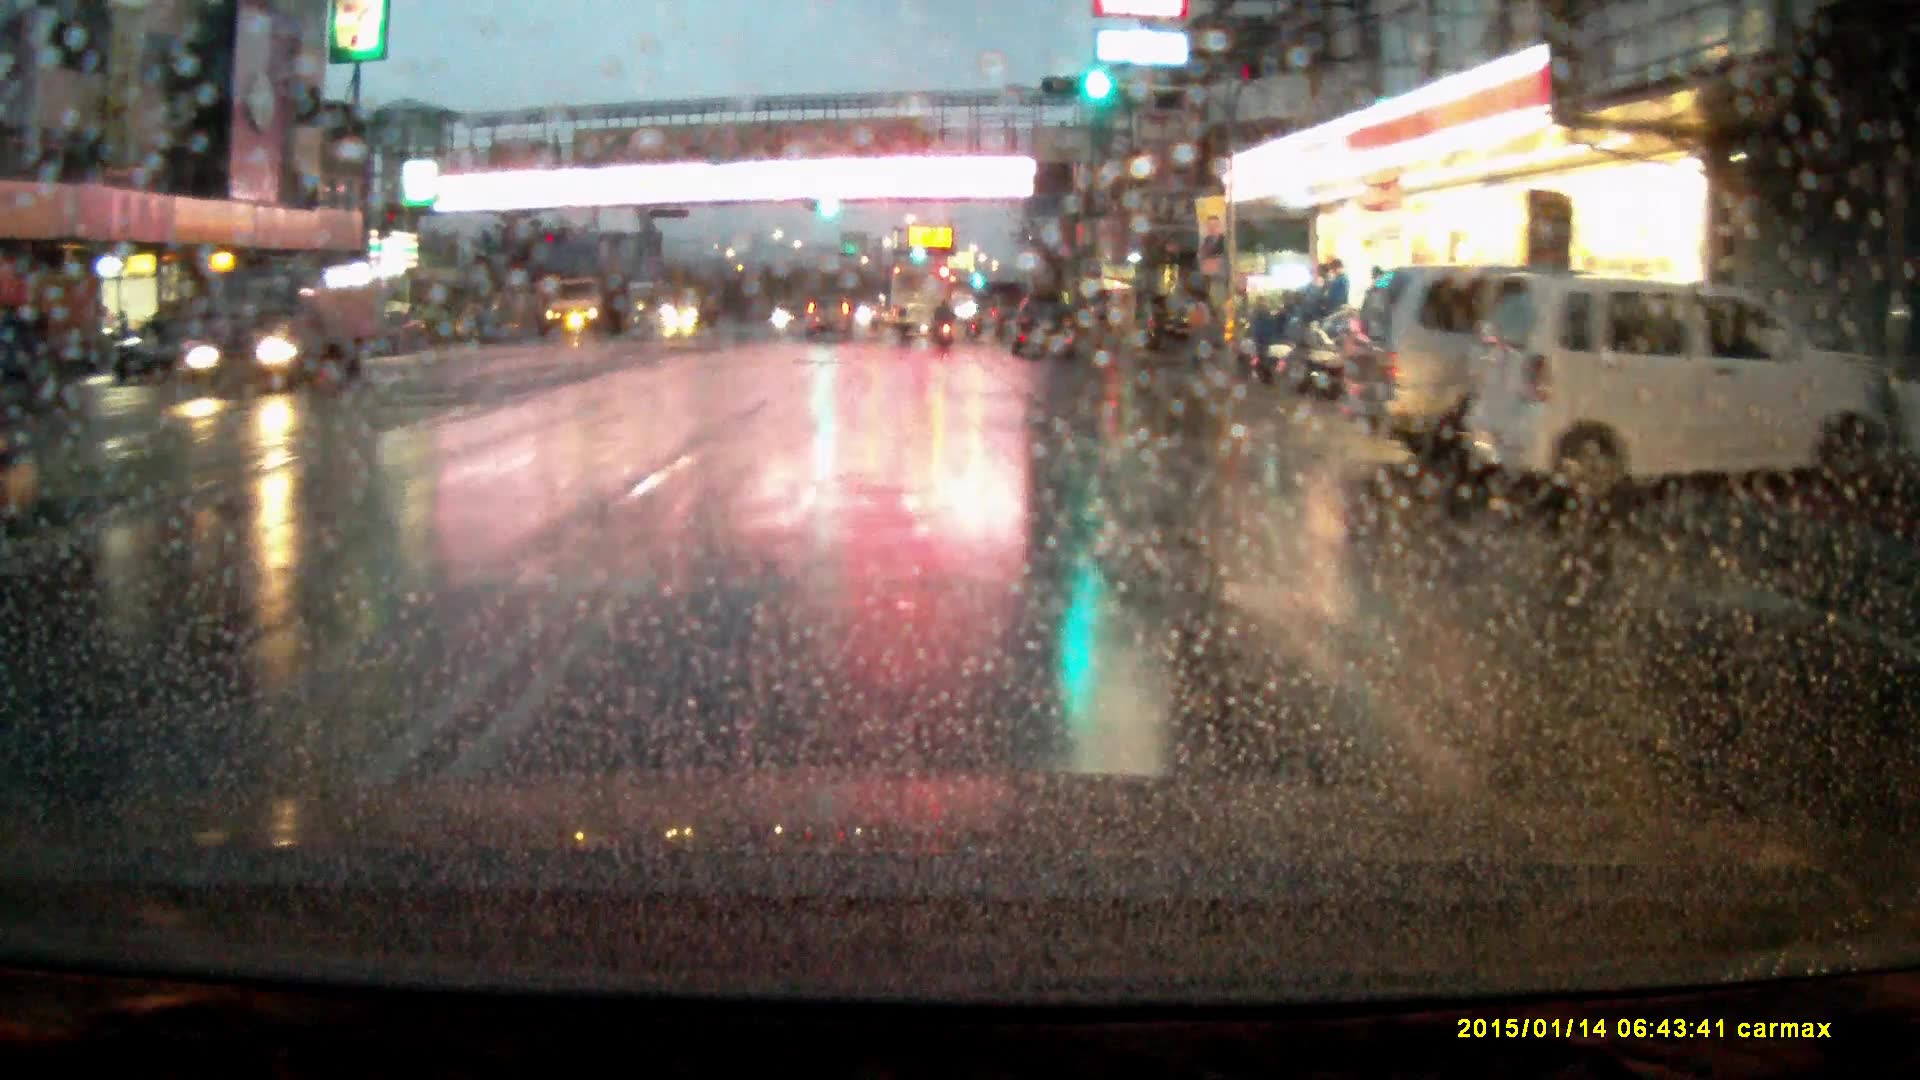rider: (937, 301, 959, 352)
vehicle: (1468, 270, 1854, 506), (1333, 262, 1614, 457), (184, 260, 377, 404), (1008, 284, 1080, 358), (546, 276, 625, 338), (891, 264, 956, 339), (1137, 291, 1215, 350), (666, 279, 722, 330), (802, 298, 856, 349)
